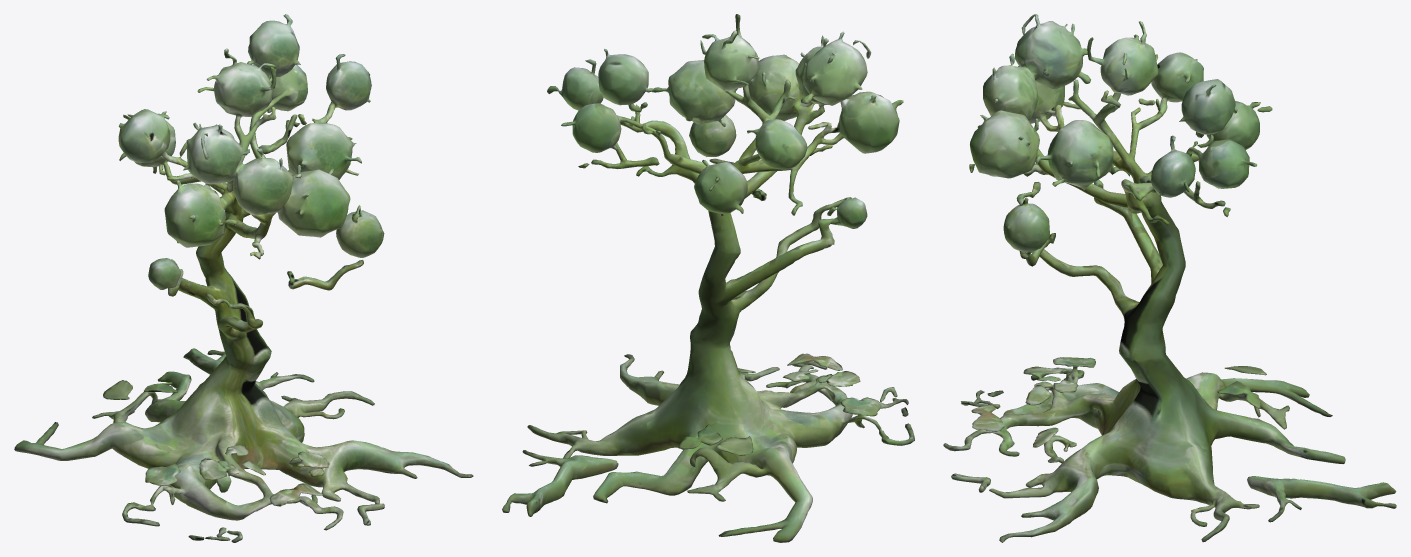
Rendered from AI_MembraneTree.fbx.
3 views of the same model, side by side, from view 1: azimuth 30°, elevation 25°; view 2: azimuth 150°, elevation 25°; view 3: azimuth 270°, elevation 25° (orthographic). The views are drawn at different scales.
Parts seen in each view (by area): view 1: Mesh1.0; view 2: Mesh1.0; view 3: Mesh1.0.
Part boxes in pixels (x1,y1,x2,y2): Mesh1.0: [14, 14, 473, 542]; Mesh1.0: [502, 14, 914, 542]; Mesh1.0: [943, 14, 1396, 542].
Bounding box in the file's own units: 157 × 200 × 187.
Materials: 1 (1 with a texture image).
